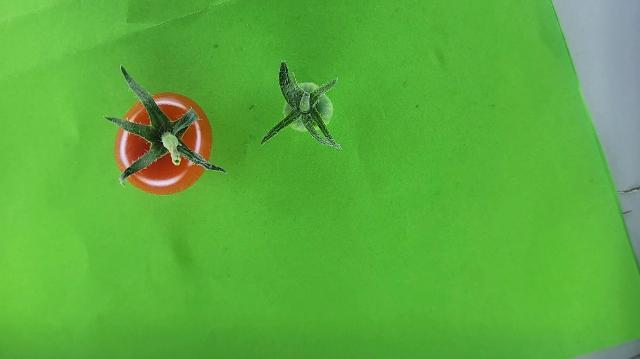Fruit Maturation: (285, 81, 334, 131)
Fully Grown: (117, 95, 210, 194)
